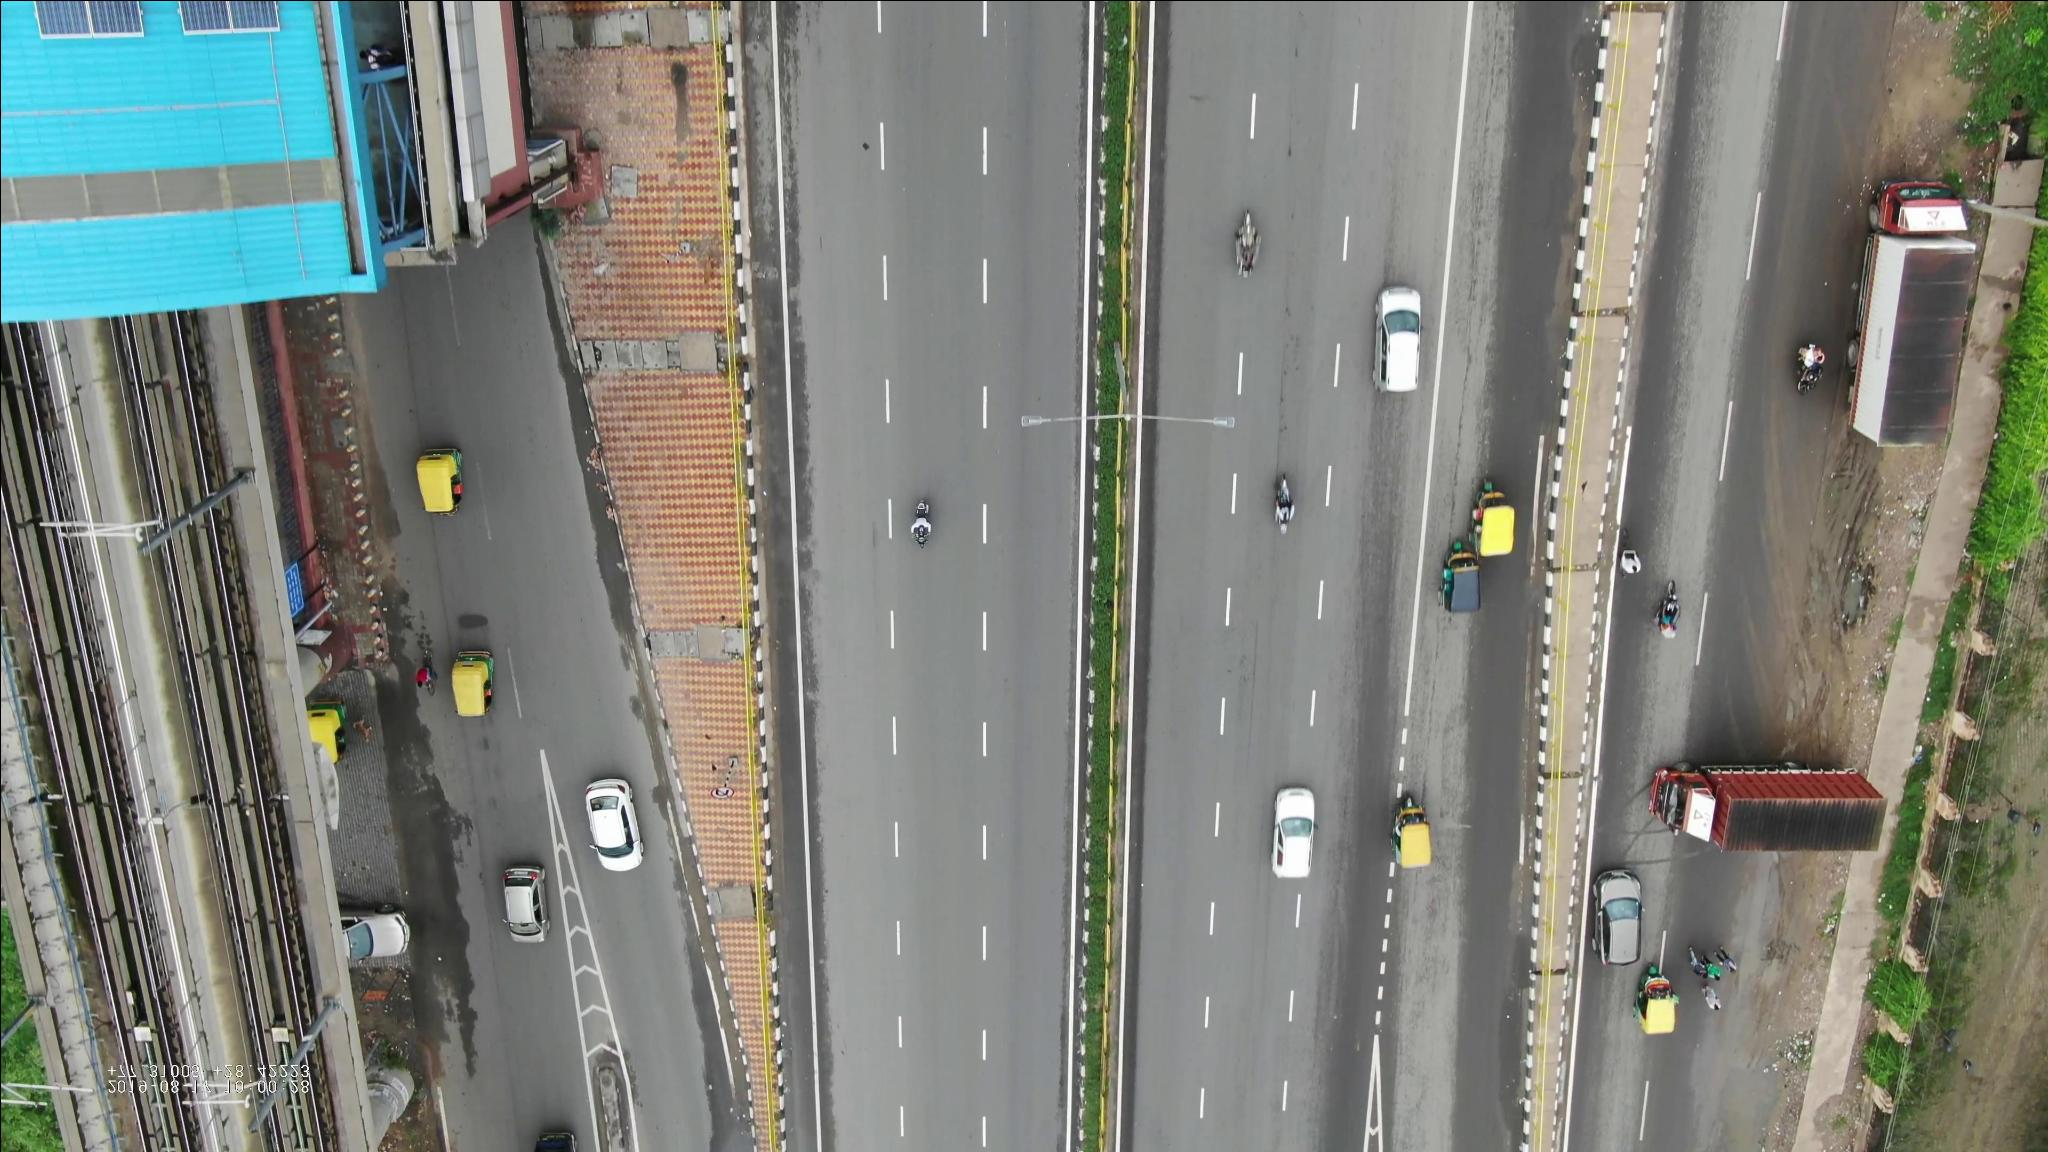Cracks: (1445, 203, 1505, 477), (1466, 6, 1523, 165)
Muddy_road: (1779, 460, 1879, 677)
Waterlogging: (1499, 942, 1539, 1129), (1566, 13, 1604, 105)
